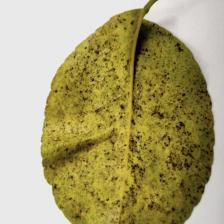canker: (60, 66, 185, 187)
